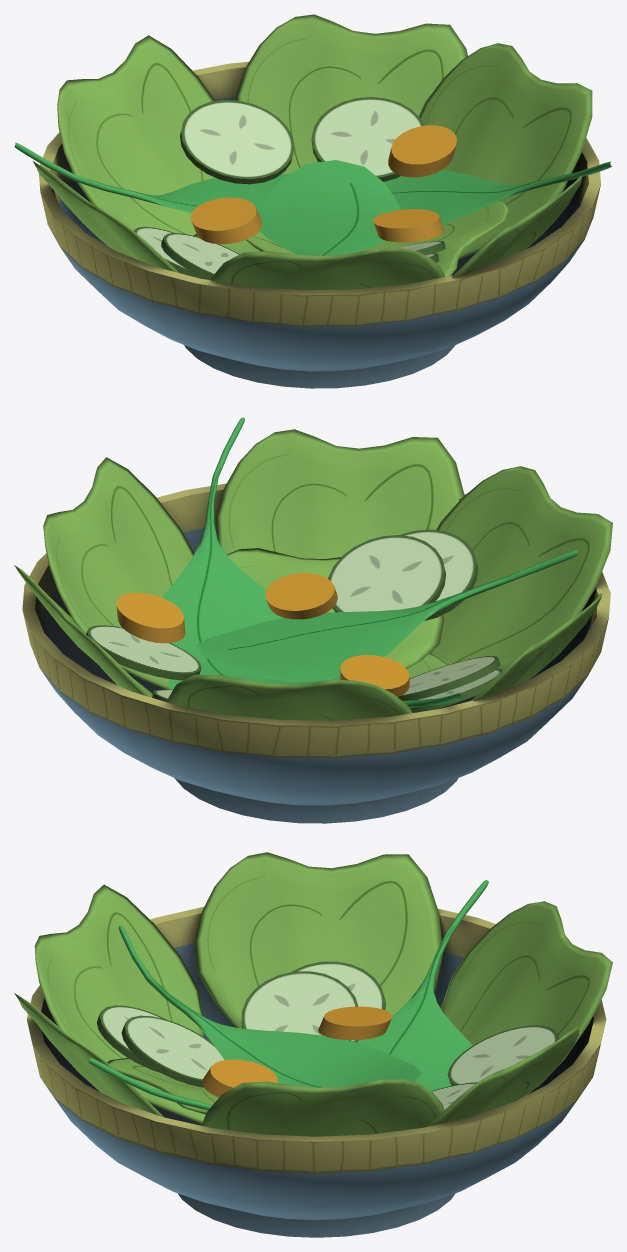
File: salad_bowl.glb
3 views of the same model, one above another, from view 1: azimuth 30°, elevation 25°; view 2: azimuth 150°, elevation 25°; view 3: azimuth 270°, elevation 25° (orthographic). The views are drawn at different scales.
Parts seen in each view (by area): view 1: Salad_Bowl.smd; view 2: Salad_Bowl.smd; view 3: Salad_Bowl.smd.
Part boxes in pixels (x1,y1,x2,y2): Salad_Bowl.smd: (14, 14, 611, 388); Salad_Bowl.smd: (14, 417, 612, 823); Salad_Bowl.smd: (14, 852, 612, 1237).
Size of the model in its own units: 0.2997 by 0.1212 by 0.3097.
5 materials, 5 textured.
